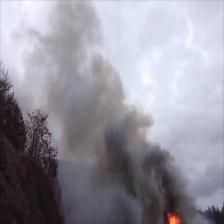fire: (168, 211, 182, 224)
smoke: (82, 125, 190, 203), (42, 8, 101, 122)
